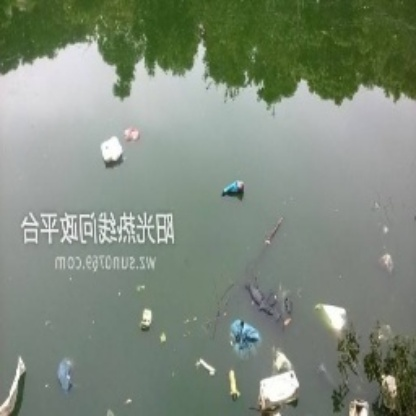plastic-bag: (225, 315, 266, 360)
plastic-garbage: (255, 371, 302, 410)
